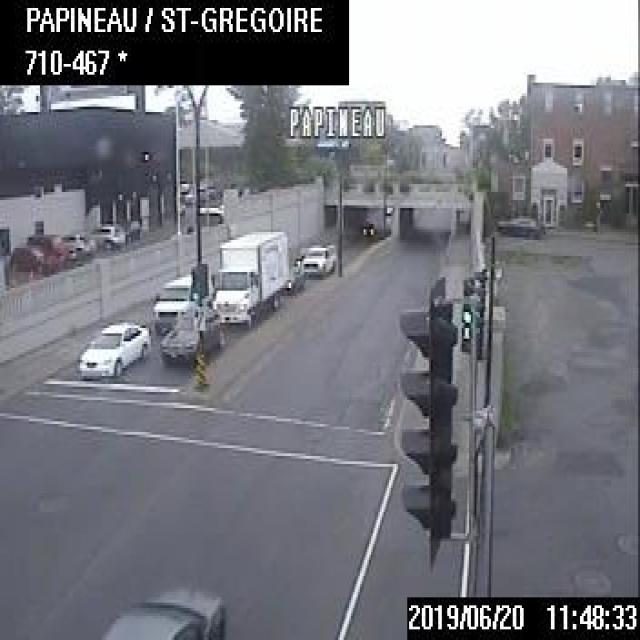vehicle: (202, 227, 290, 325), (98, 582, 224, 638), (75, 317, 147, 379), (157, 305, 226, 360), (151, 266, 198, 328), (28, 230, 70, 269), (494, 209, 542, 240), (300, 240, 334, 274), (85, 222, 124, 247), (281, 264, 304, 294), (360, 218, 378, 234)
